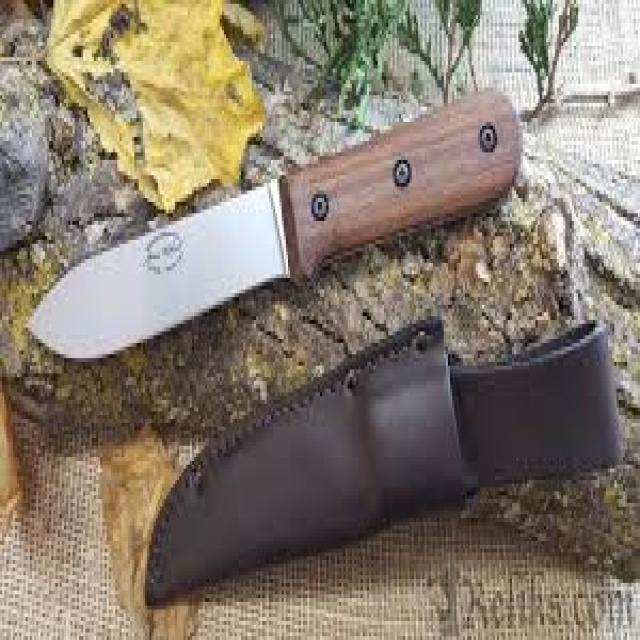knives: (28, 84, 523, 354)
